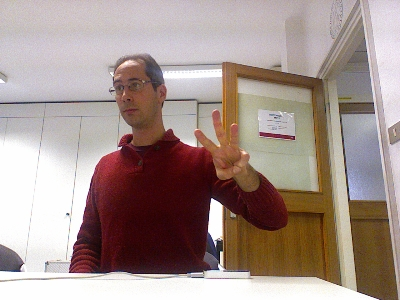三分: (192, 109, 250, 181)
